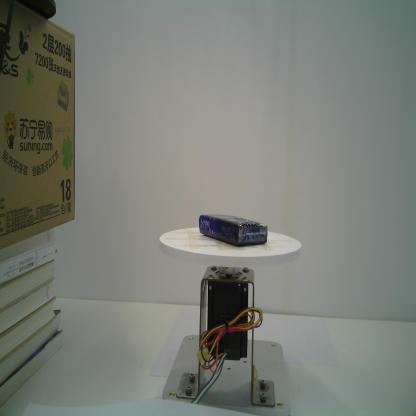Gum: (198, 212, 268, 248)
